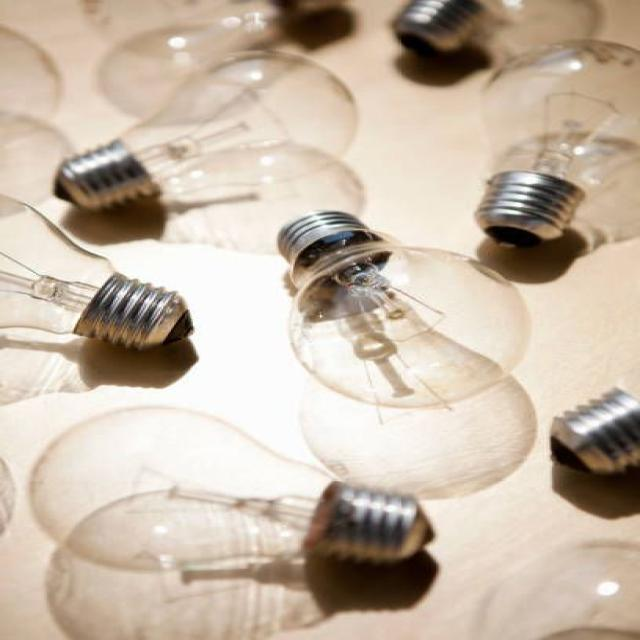electronic: (25, 404, 435, 639), (275, 209, 538, 499), (50, 47, 367, 254), (43, 484, 330, 639), (472, 37, 639, 254), (0, 192, 195, 352), (389, 0, 604, 62), (548, 385, 638, 477)
